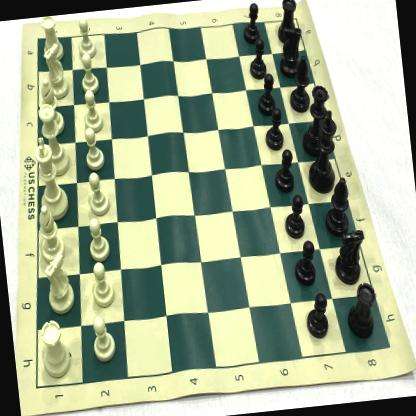black-bishop: (322, 174, 354, 236), (286, 55, 314, 112)
black-king: (301, 110, 344, 193)
black-knight: (330, 227, 368, 283), (276, 24, 306, 77)
black-pawn: (280, 192, 308, 240), (304, 292, 332, 340), (292, 238, 318, 288), (271, 148, 296, 192), (255, 72, 278, 116), (240, 3, 262, 46), (262, 107, 284, 150), (246, 38, 268, 80)
black-queen: (297, 83, 335, 156)
black-rook: (344, 280, 381, 340), (273, 0, 300, 43)
white-bishop: (36, 204, 66, 262), (39, 75, 66, 136)
white-king: (32, 134, 70, 221)
white-knight: (42, 252, 76, 314), (42, 42, 70, 99)
white-pawn: (86, 313, 118, 364), (89, 260, 116, 308), (82, 126, 106, 172), (86, 171, 110, 216), (86, 217, 110, 261), (78, 52, 101, 96), (75, 16, 97, 60), (81, 88, 103, 132)
white-queen: (36, 101, 70, 178)
white-rook: (36, 318, 72, 379), (40, 14, 65, 63)
